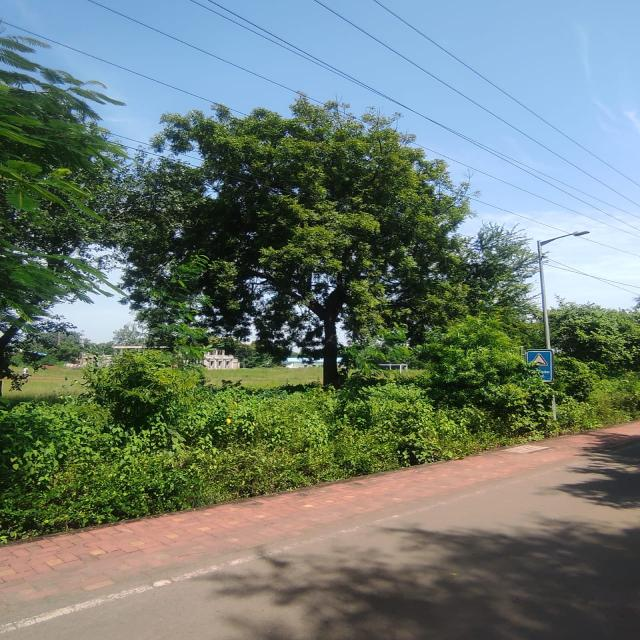Neem Tree: (180, 73, 446, 446)
